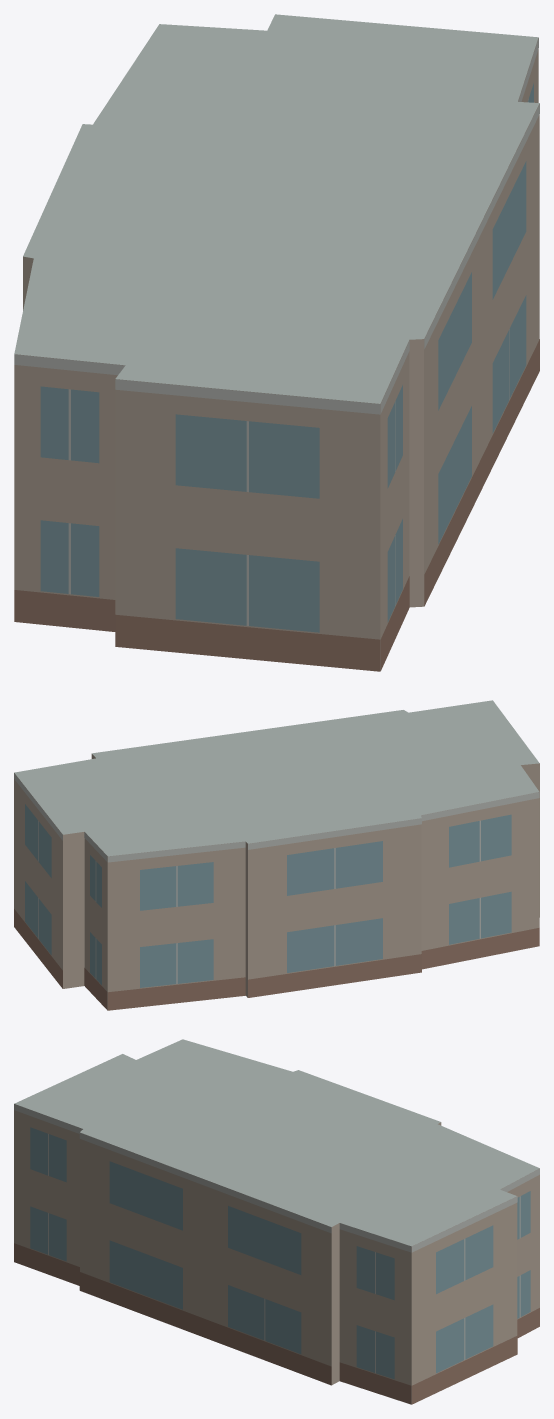
File: survey-upis-32924069.glb
3 views of the same model, one above another, from view 1: azimuth 30°, elevation 25°; view 2: azimuth 150°, elevation 25°; view 3: azimuth 270°, elevation 25° (orthographic). The views are drawn at different scales.
Parts seen in each view (by area): view 1: survey-upis-32924069.tmp; view 2: survey-upis-32924069.tmp; view 3: survey-upis-32924069.tmp.
Boxes of the visible parts, <box> form: survey-upis-32924069.tmp: <box>14,14,539,671</box>; survey-upis-32924069.tmp: <box>14,700,539,1010</box>; survey-upis-32924069.tmp: <box>14,1039,539,1404</box>.
Size of the model in its own units: 17.13 by 6.1 by 18.37.
